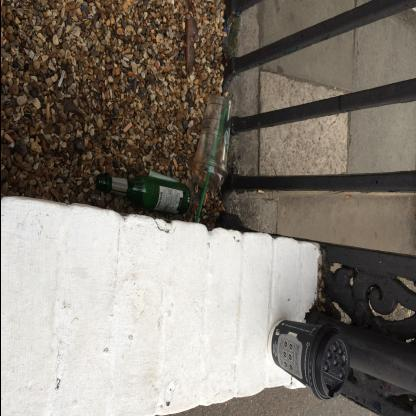cam: (96, 174, 191, 216)
karton: (268, 320, 350, 402)
plastik: (191, 96, 233, 224)
